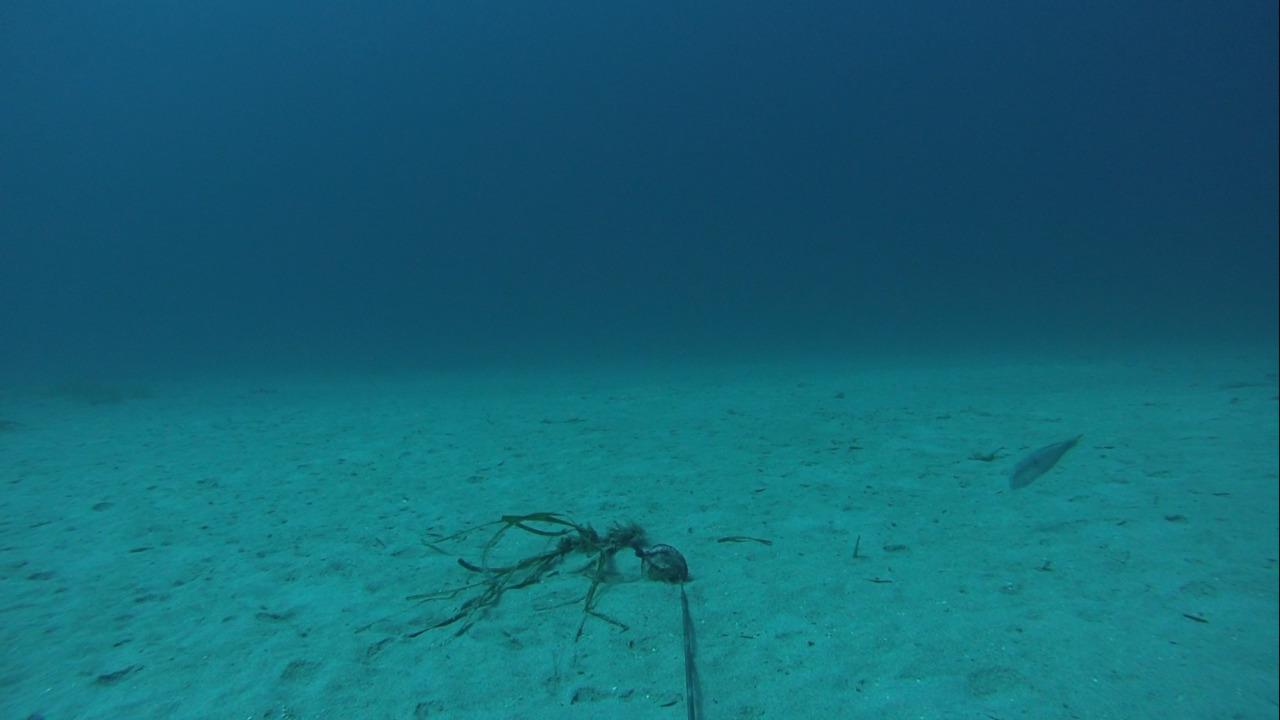raor: (1004, 427, 1084, 493)
